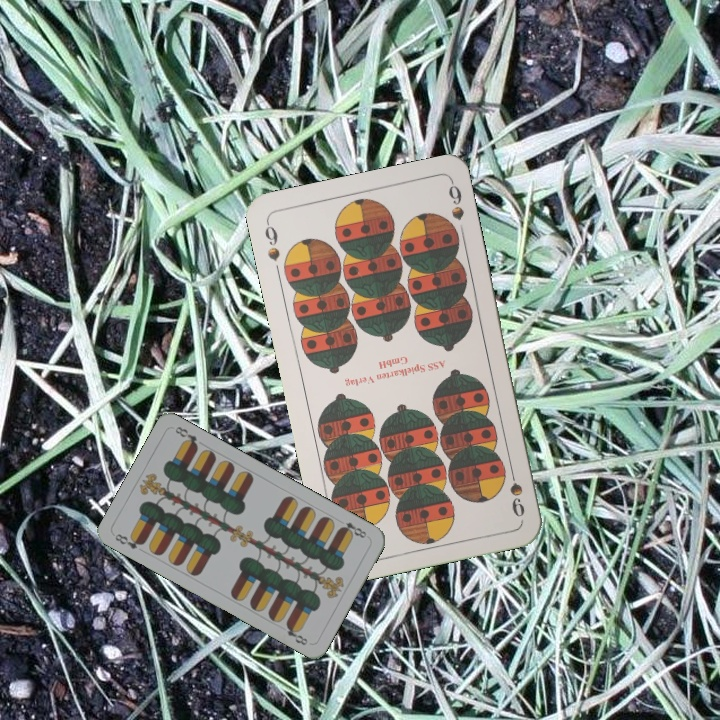E8: (335, 518, 371, 541), (111, 529, 147, 552)
S9: (505, 462, 528, 520), (260, 217, 283, 264)
